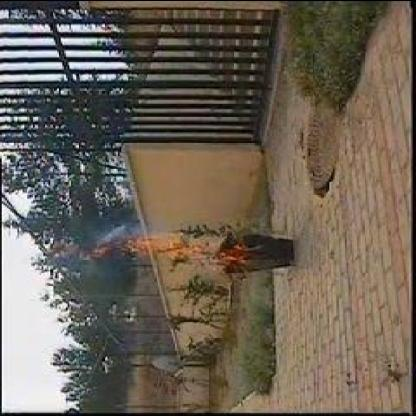foggia-v2-map80-epoch100 - v1 4323: (126, 239, 249, 261)
